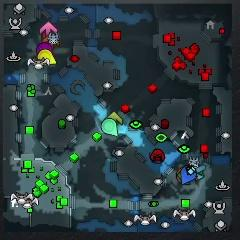p1: (182, 167, 196, 185)
p2: (102, 119, 118, 138)
p3: (36, 43, 53, 53)
p4: (37, 50, 56, 66)
p5: (176, 168, 182, 183)
x1: (40, 21, 59, 36)
x2: (107, 111, 125, 122)
x3: (197, 165, 205, 179)
x4: (178, 171, 182, 179)
x5: (40, 34, 60, 45)
